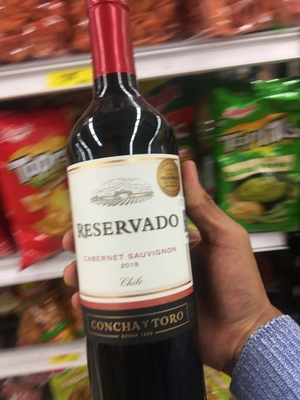reservado cabernet sauvignon: (60, 9, 208, 400)
